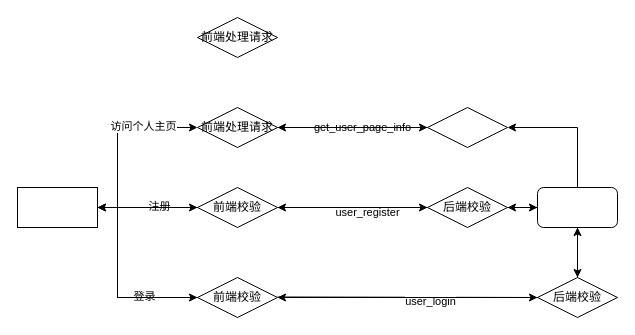
This 635x335 diagram has some shape labels left out. Each missing label, with the box of its shape:
user list: (536, 186, 618, 228)
后端生成数据返回: (426, 106, 508, 148)
用户: (16, 186, 98, 228)
